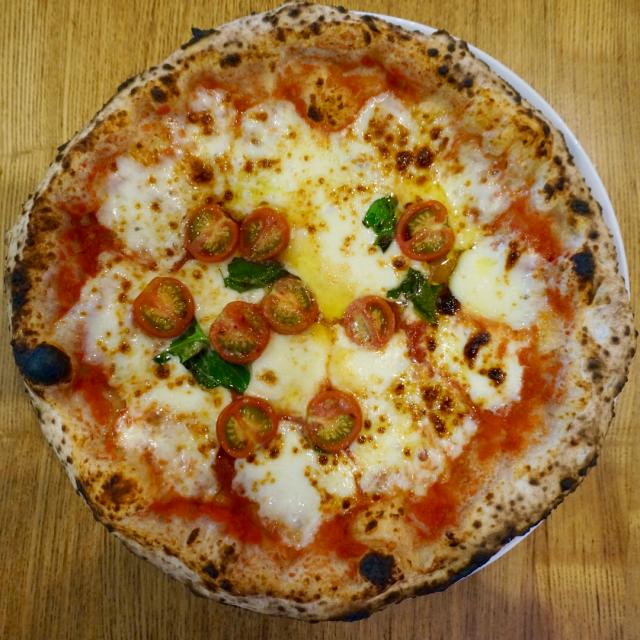basil: (156, 319, 256, 396), (385, 264, 449, 327), (353, 194, 401, 254), (223, 253, 293, 294)
pizza: (0, 0, 640, 624)
tomatoes: (134, 268, 196, 342), (213, 394, 279, 460), (208, 298, 272, 366), (302, 384, 364, 453), (180, 197, 240, 265), (398, 199, 456, 263), (260, 275, 321, 334), (239, 201, 291, 263), (343, 294, 396, 352)
